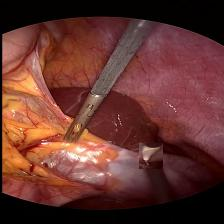Grasper: (56, 106, 99, 144)
Hook: (138, 144, 162, 170)
